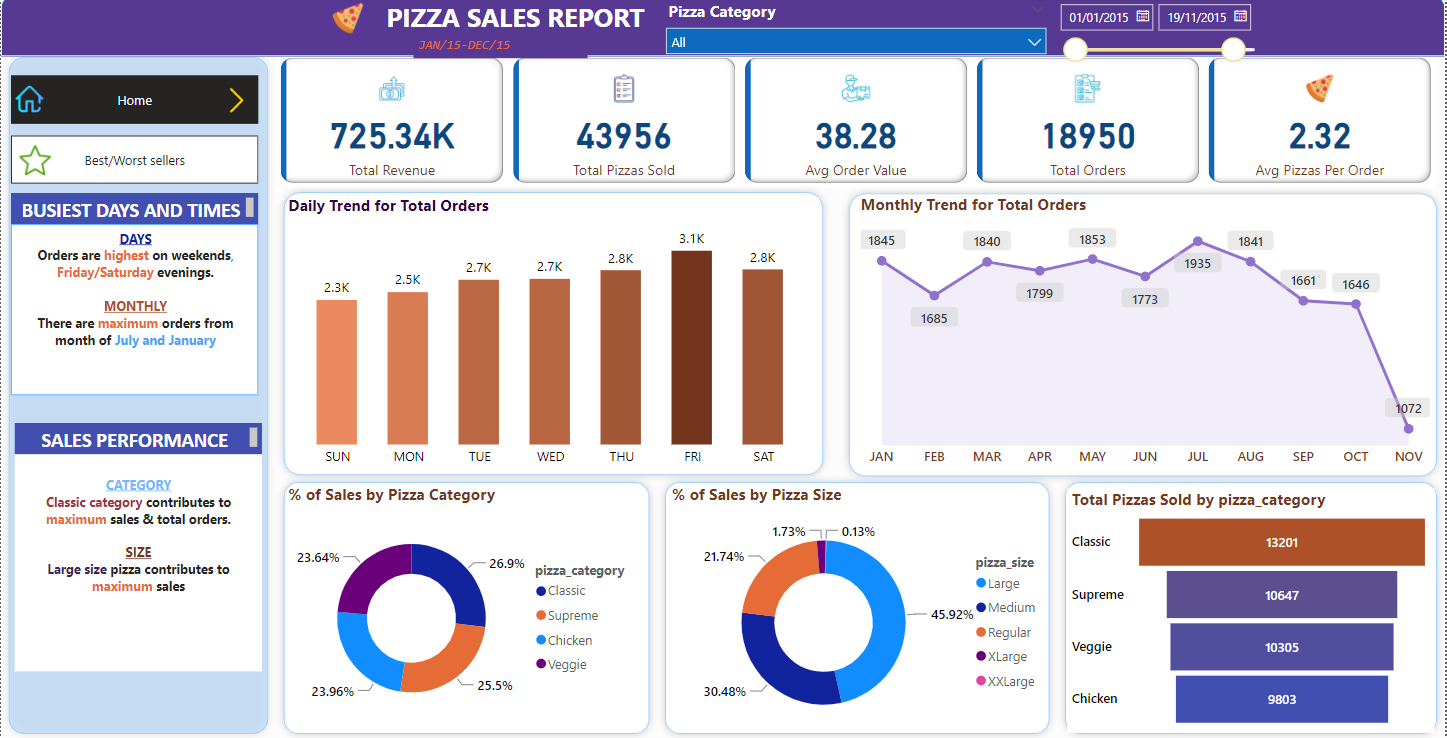

What the dashboard file says about the page in this screenshot:
{"tool":"powerbi","page":{"name":"Home","canvas":[1500,820],"ordinal":0},"visuals":[{"type":"shape","box":[0,100,285.7,719.5],"z":0},{"type":"textbox","box":[10.4,249.4,257.1,32.5],"z":1000},{"type":"cardVisual","fields":{"Data":["pizza_sales.Total Revenue","pizza_sales.Total Pizzas Sold","pizza_sales.Avg Order Value","pizza_sales.Total Orders","pizza_sales.Avg Pizzas Per Order"]},"box":[285.7,103.9,1205.2,140.3],"z":2000},{"type":"shape","box":[0,42.9,1500,64.9],"z":3000},{"type":"textbox","box":[350.6,42.9,367.5,61],"z":4000},{"type":"textbox","box":[429,80,180.5,28.6],"z":5000},{"type":"image","box":[331.2,46.8,58.4,42.9],"z":6000},{"type":"shape","box":[285.7,240.3,576.6,310.4],"z":7000},{"type":"columnChart","title":"Daily Trend for Total Orders","fields":{"Category":["pizza_sales.Order Dat"],"Y":["pizza_sales.Total Orders"]},"box":[293.5,250.6,555.8,292.2],"z":8000},{"type":"shape","box":[872.7,241.6,627.3,310.4],"z":9000},{"type":"areaChart","title":"Monthly Trend for Total Orders","fields":{"Category":["pizza_sales.Order Month"],"Y":["pizza_sales.Total Orders"]},"box":[888.3,249.4,601.3,293.5],"z":10000},{"type":"shape","box":[285.7,541.6,396.1,277.9],"z":11000},{"type":"shape","box":[1097.4,541.6,402.6,277.9],"z":12000},{"type":"shape","box":[681.8,541.6,415.6,277.9],"z":13000},{"type":"donutChart","title":"% of Sales by Pizza Category","fields":{"Category":["pizza_sales.pizza_category"],"Y":["pizza_sales.Total Revenue"]},"box":[293.5,550.6,375.3,259.7],"z":14000},{"type":"donutChart","title":"% of Sales by Pizza Size","fields":{"Y":["pizza_sales.Total Revenue"],"Category":["pizza_sales.pizza_size"]},"box":[692.2,550.6,405.2,268.8],"z":15000},{"type":"funnel","fields":{"Category":["pizza_sales.pizza_category"],"Y":["pizza_sales.Total Pizzas Sold"]},"box":[1107.8,555.8,381.8,254.5],"z":16000},{"type":"textbox","box":[10.4,281.8,257.1,177.9],"z":17000},{"type":"textbox","box":[14.3,488.3,257.1,32.5],"z":18000},{"type":"textbox","box":[14.3,520.8,257.1,226],"z":19000},{"type":"slicer","fields":{"Values":["pizza_sales.pizza_category"]},"box":[680.5,44.2,415.6,61],"z":20000},{"type":"slicer","fields":{"Values":["pizza_sales.order_date"]},"box":[1088.3,42.9,235.1,84.4],"z":21000},{"type":"pageNavigator","box":[10.4,127.3,257.1,50.6],"z":22000},{"type":"pageNavigator","box":[10.4,189.6,257.1,50.6],"z":23000},{"type":"image","box":[222.1,135.1,45.5,36.4],"z":24000},{"type":"image","box":[14.3,190.9,42.9,49.4],"z":24001},{"type":"image","box":[0,132.5,58.4,39],"z":24002}]}

Visuals, with their boxes on the page's 1500x820 design canvas (x1, y1, x2, y2). These are canvas units, not pixel positions in the 1447x738 screenshot, which may show the page scaled, cropped or inside an application window:
shape: [left=0, top=100, right=286, bottom=820]
textbox: [left=10, top=249, right=268, bottom=282]
cardVisual - pizza_sales.Total Revenue x pizza_sales.Total Pizzas Sold: [left=286, top=104, right=1491, bottom=244]
shape: [left=0, top=43, right=1500, bottom=108]
textbox: [left=351, top=43, right=718, bottom=104]
textbox: [left=429, top=80, right=610, bottom=109]
image: [left=331, top=47, right=390, bottom=90]
shape: [left=286, top=240, right=862, bottom=551]
"Daily Trend for Total Orders" columnChart: [left=294, top=251, right=849, bottom=543]
shape: [left=873, top=242, right=1500, bottom=552]
"Monthly Trend for Total Orders" areaChart: [left=888, top=249, right=1490, bottom=543]
shape: [left=286, top=542, right=682, bottom=820]
shape: [left=1097, top=542, right=1500, bottom=820]
shape: [left=682, top=542, right=1097, bottom=820]
"% of Sales by Pizza Category" donutChart: [left=294, top=551, right=669, bottom=810]
"% of Sales by Pizza Size" donutChart: [left=692, top=551, right=1097, bottom=819]
funnel - pizza_sales.pizza_category x pizza_sales.Total Pizzas Sold: [left=1108, top=556, right=1490, bottom=810]
textbox: [left=10, top=282, right=268, bottom=460]
textbox: [left=14, top=488, right=271, bottom=521]
textbox: [left=14, top=521, right=271, bottom=747]
slicer - pizza_sales.pizza_category: [left=680, top=44, right=1096, bottom=105]
slicer - pizza_sales.order_date: [left=1088, top=43, right=1323, bottom=127]
pageNavigator: [left=10, top=127, right=268, bottom=178]
pageNavigator: [left=10, top=190, right=268, bottom=240]
image: [left=222, top=135, right=268, bottom=172]
image: [left=14, top=191, right=57, bottom=240]
image: [left=0, top=132, right=58, bottom=172]
